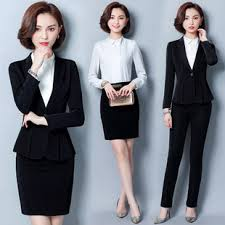F_dress pants: (158, 90, 215, 209)
F_shirt: (87, 35, 152, 101)
F_tailored skirt: (12, 136, 78, 220), (98, 79, 144, 144)
S_business casual jacket: (3, 51, 88, 160), (161, 35, 221, 116)
